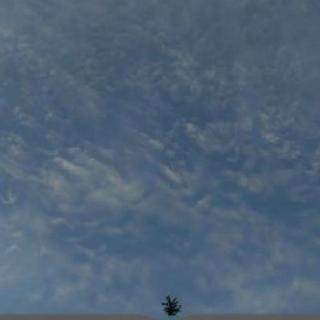Cirrocumulus: (3, 0, 320, 309)
